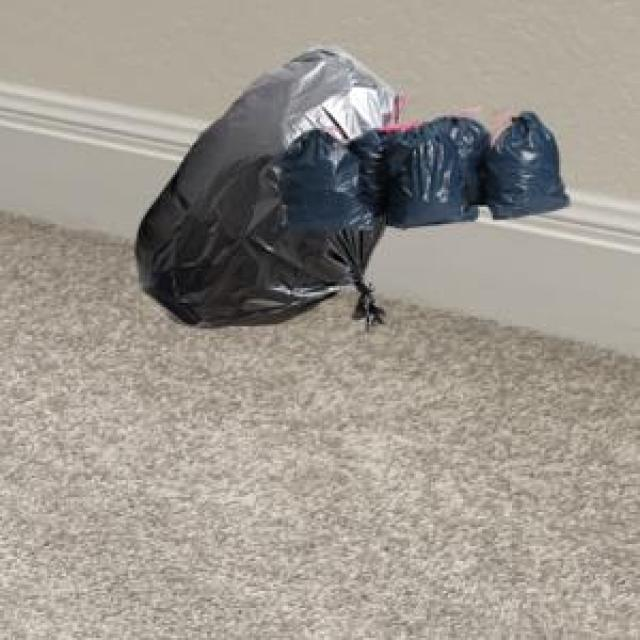Trashbag: (260, 116, 376, 237), (462, 110, 576, 227), (371, 123, 471, 233)
